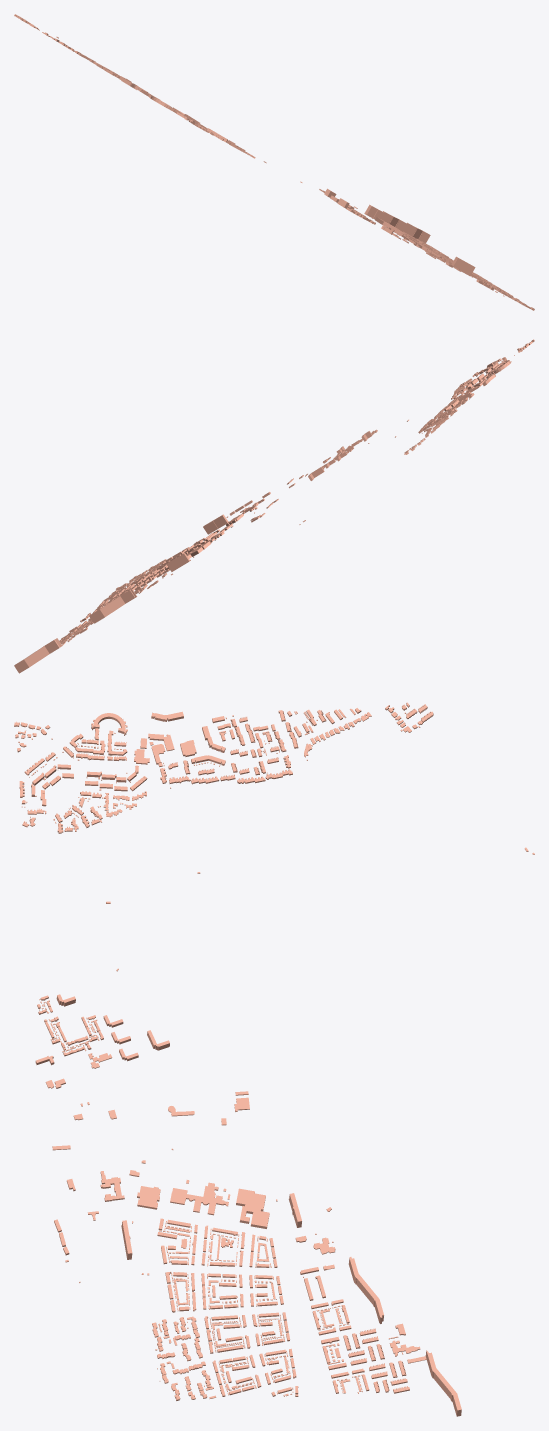
3 views of the same model, one above another, from view 1: azimuth 30°, elevation 25°; view 2: azimuth 150°, elevation 25°; view 3: azimuth 270°, elevation 25° (orthographic). The views are drawn at different scales.
Bounding box in the file's own units: 2004 × 1534 × 1620.
